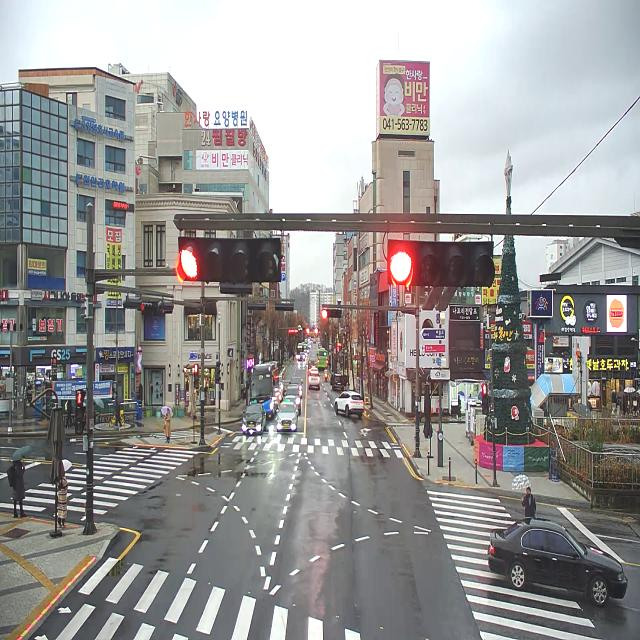Bus: (247, 362, 279, 418), (316, 348, 328, 368), (297, 343, 304, 359), (304, 344, 308, 349)
Car: (487, 517, 628, 605), (242, 399, 266, 433), (334, 390, 363, 418), (277, 400, 298, 430), (285, 384, 301, 415), (330, 373, 348, 391), (291, 376, 303, 398), (308, 371, 320, 391), (280, 376, 284, 400), (299, 352, 305, 360)
